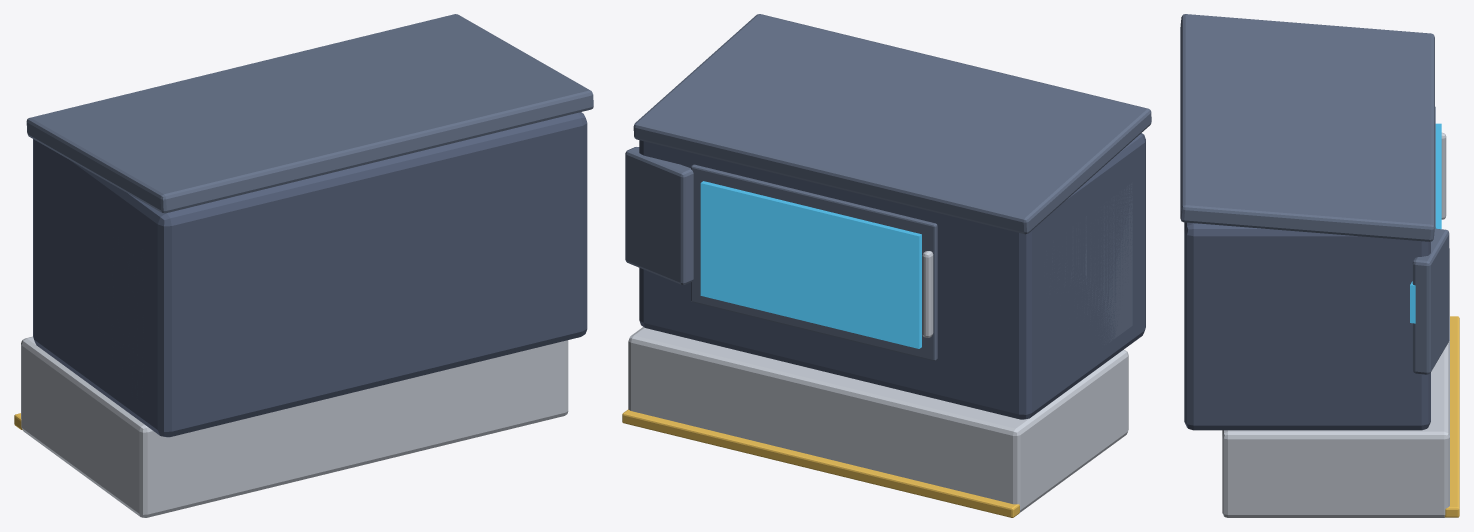
File: lathe.glb
3 views of the same model, side by side, from view 1: azimuth 30°, elevation 25°; view 2: azimuth 150°, elevation 25°; view 3: azimuth 270°, elevation 25° (orthographic). The views are drawn at different scales.
Parts seen in each view (by area): view 1: La_Cabinet, La_TopCover, La_Base; view 2: La_TopCover, La_Cabinet, La_Base, La_Window, La_Pendant, La_WinFrame, La_Kick, La_Headstock, La_Handle; view 3: La_TopCover, La_Cabinet, La_Base, La_Pendant, La_Kick, La_Window, La_Handle.
Boxes of the visible parts, x1,y1,x2,y2 form: La_Cabinet: (33,112,587,437); La_TopCover: (26,14,593,213); La_Base: (21,336,568,517); La_TopCover: (633,14,1151,234); La_Cabinet: (639,133,1145,419); La_Base: (628,327,1128,512); La_Window: (700,181,921,348); La_Pendant: (625,147,693,284); La_WinFrame: (691,164,937,360); La_Kick: (622,409,1019,517); La_Headstock: (1046,182,1132,344); La_Handle: (922,251,933,337); La_TopCover: (1180,14,1434,241); La_Cabinet: (1184,222,1430,430); La_Base: (1222,248,1449,517); La_Pendant: (1412,228,1449,374); La_Kick: (1444,316,1459,517); La_Window: (1435,123,1441,229); La_Handle: (1441,132,1446,219).
Bounding box in the file's own units: 2.48 × 1.83 × 1.47.
